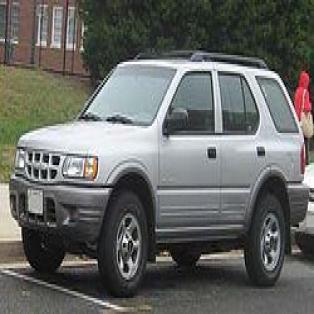Auto: (9, 48, 311, 289)
